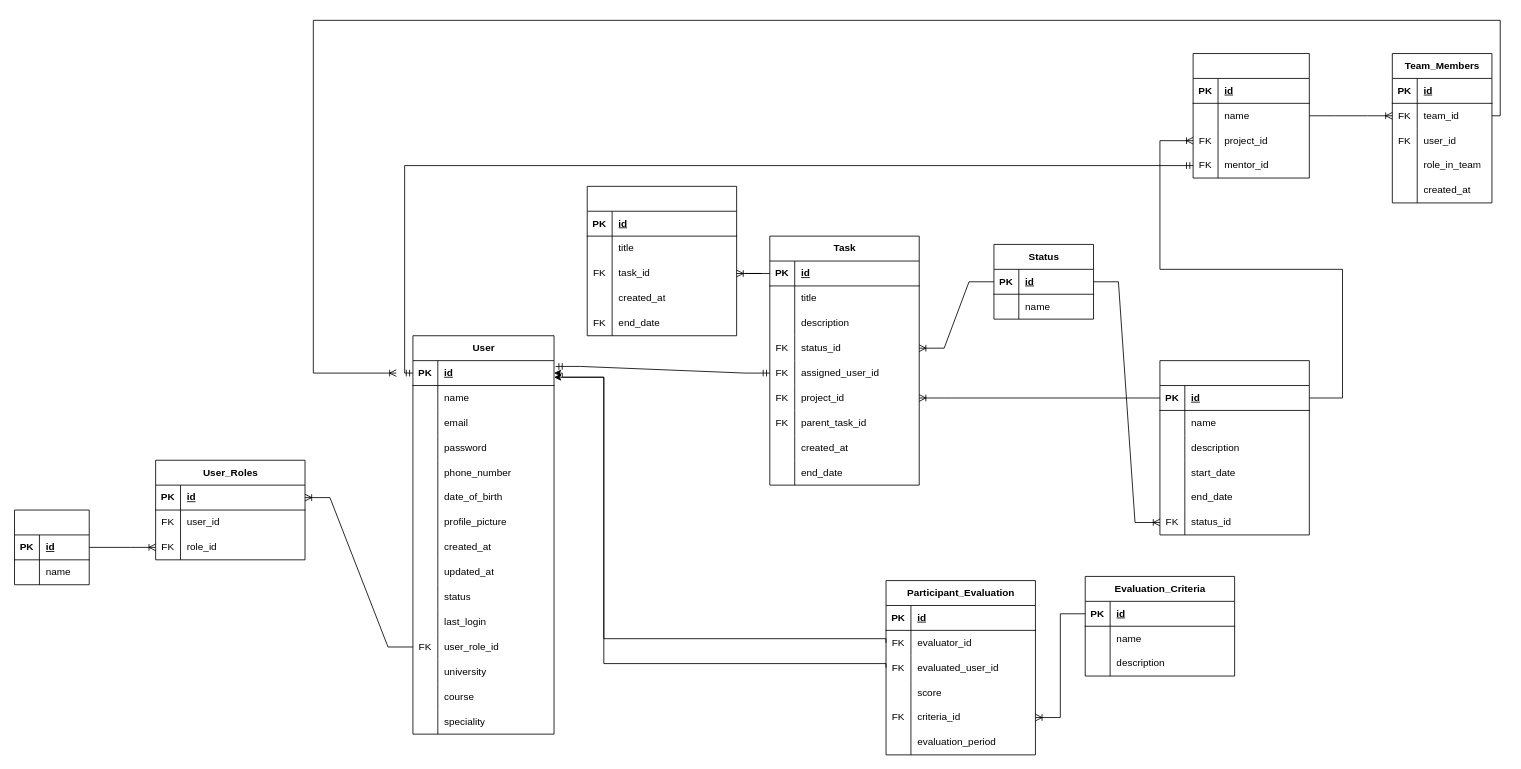
Some shapes in this 1521 by 769 pixel diagram are drawn without their labels. The box of each missing label's shape, as (x1, y1, x2, y2) in pixels:
Project: (1159, 360, 1309, 535)
Role: (14, 509, 89, 585)
SubTask: (586, 186, 737, 336)
Team: (1192, 53, 1309, 178)
